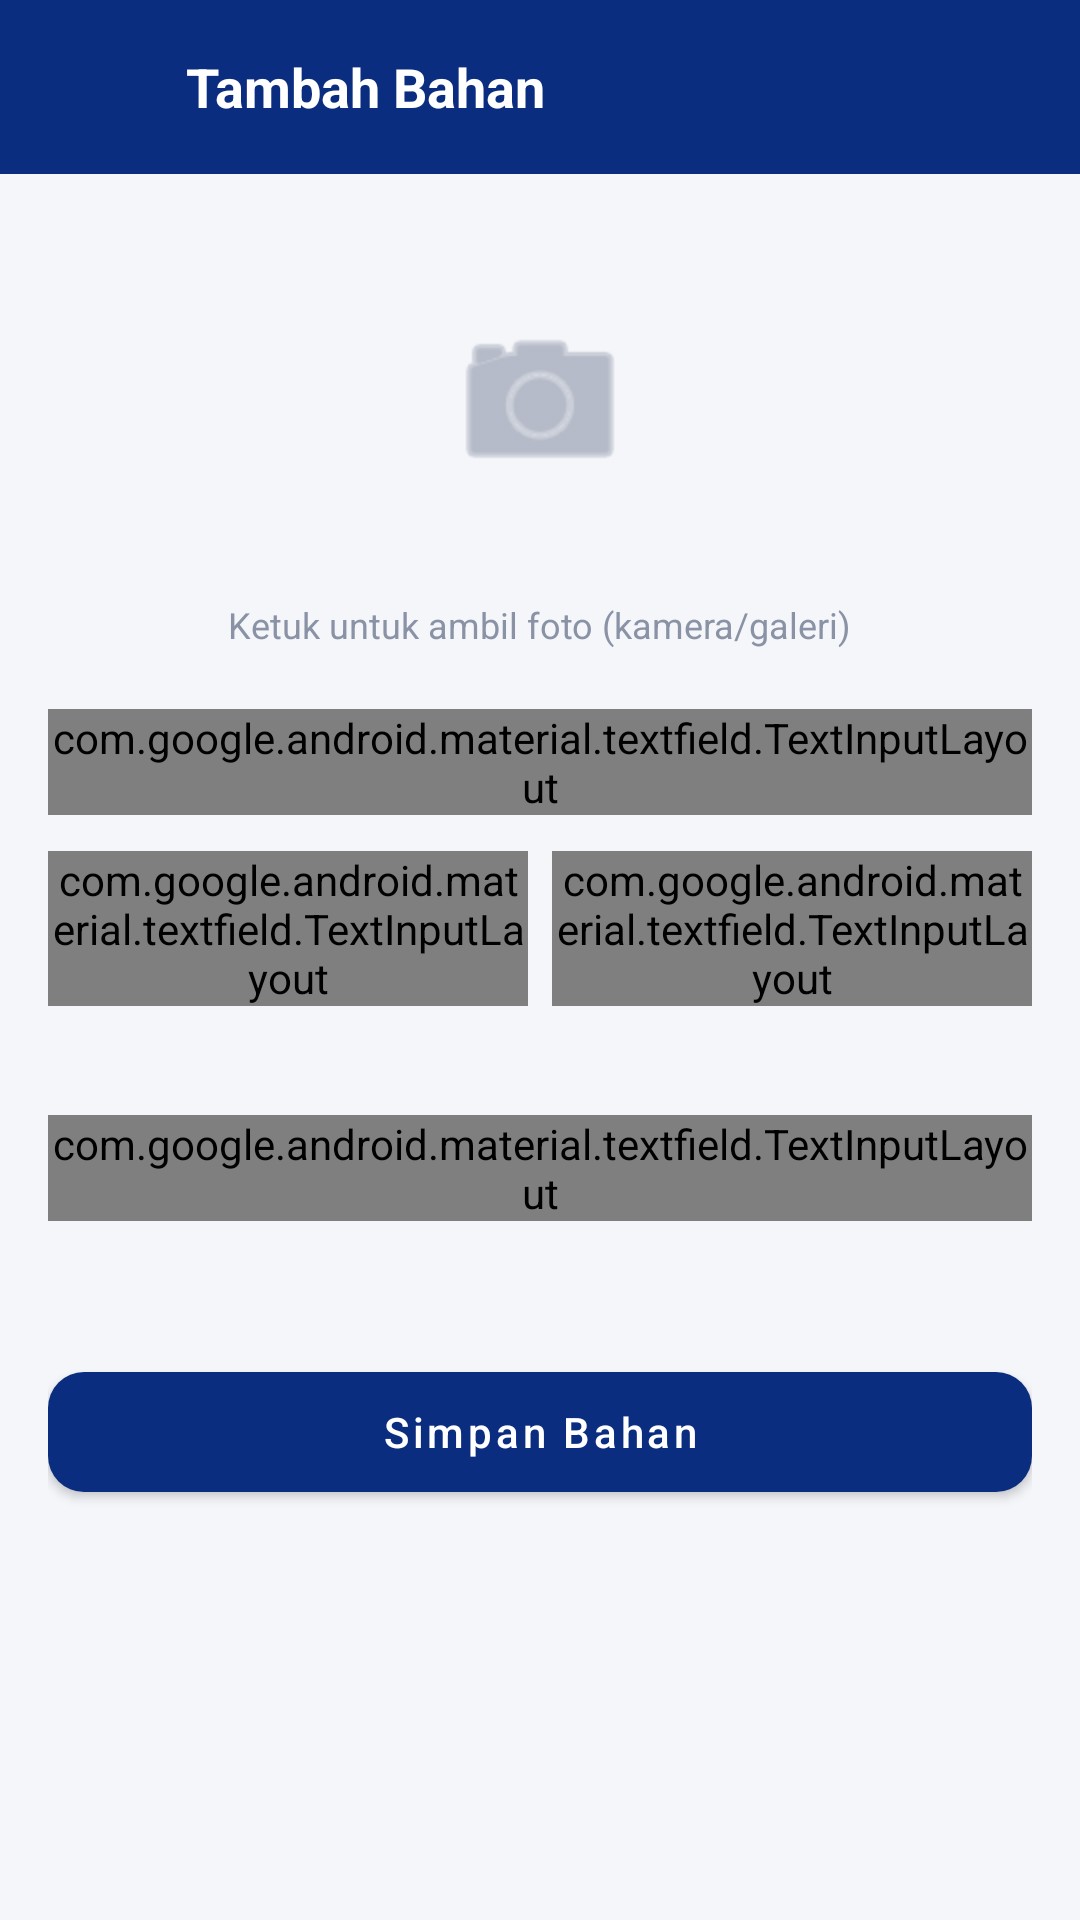

Locate icon controls on the screen. Image size 1080 x 1920, boxes as (x1, y1, x2, y2).
Foto bahan: (467, 341, 613, 457)
